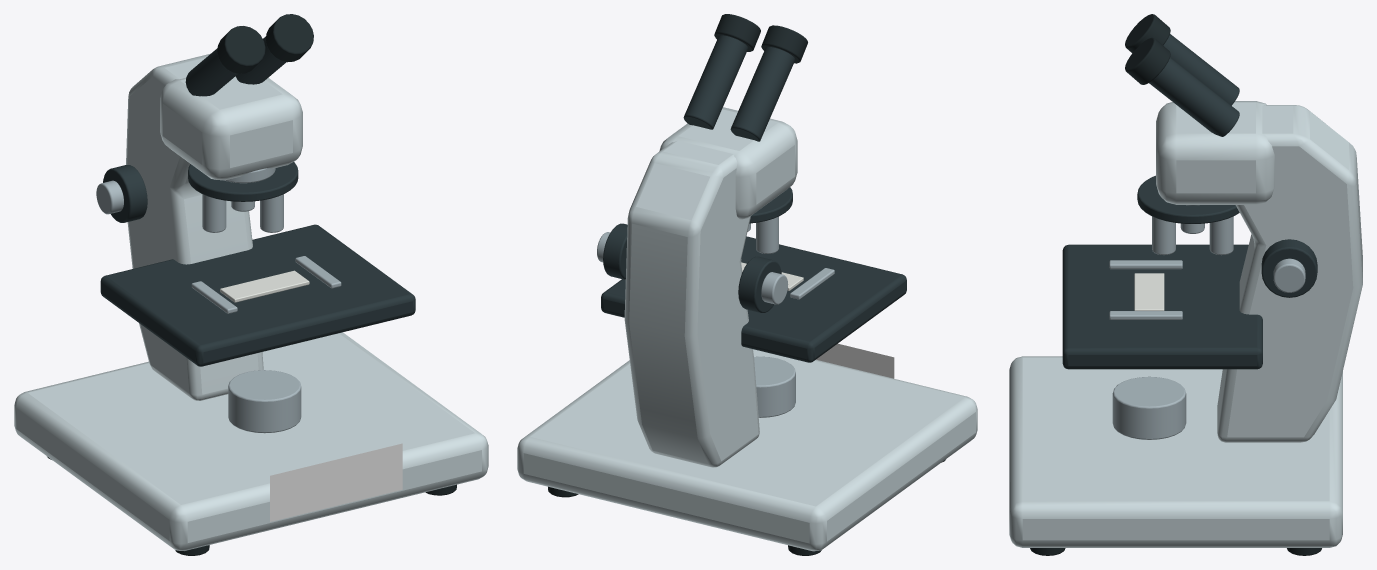
File: ID_BinocularMicroscope.fbx
The picture shows the model from 3 angles, left to right: view 1: azimuth 30°, elevation 25°; view 2: azimuth 150°, elevation 25°; view 3: azimuth 270°, elevation 25°; orthographic projection. The views are drawn at different scales.
Visible parts, largest first — view 1: ID_BinocularMicroscope; view 2: ID_BinocularMicroscope; view 3: ID_BinocularMicroscope.
Part boxes in pixels (x1,y1,x2,y2): ID_BinocularMicroscope: [14, 14, 488, 555]; ID_BinocularMicroscope: [517, 14, 977, 555]; ID_BinocularMicroscope: [1009, 14, 1362, 555].
Size of the model in its own units: 55 by 76.07 by 53.5.
